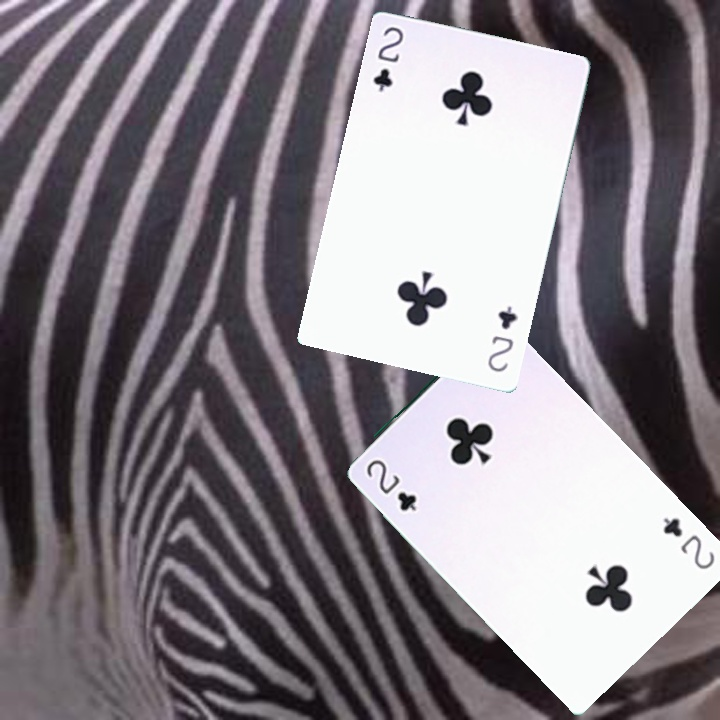2c: (659, 513, 718, 573), (362, 455, 420, 514), (483, 302, 521, 375), (369, 22, 406, 95)
